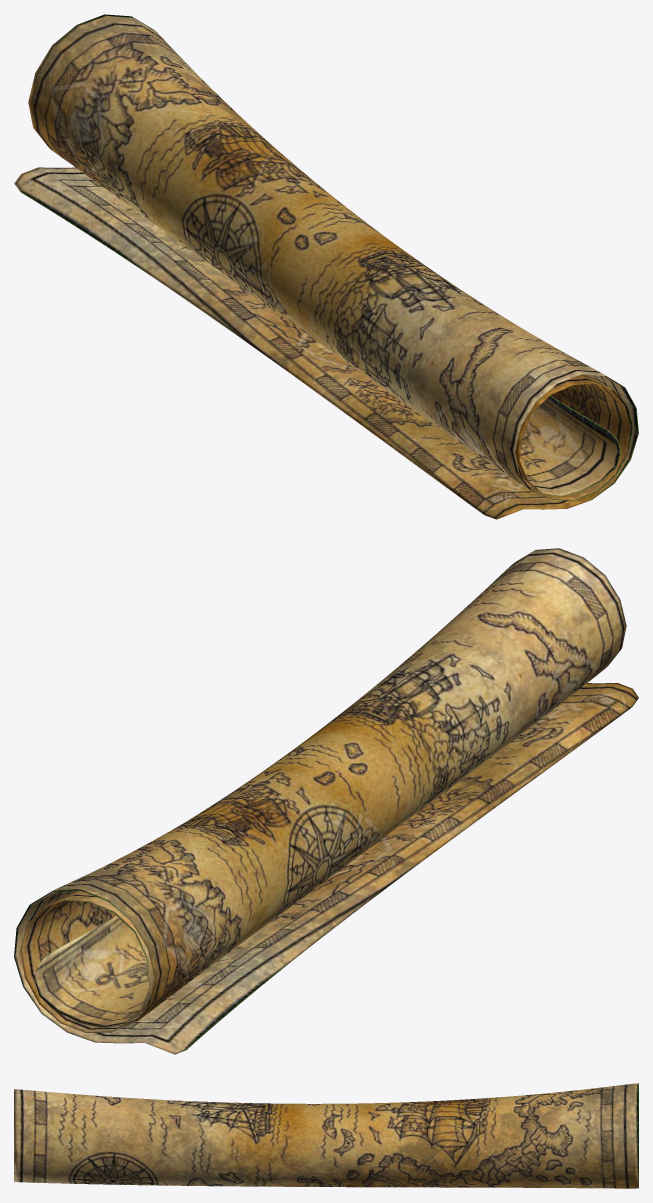
File: pirates_map.glb
3 views of the same model, one above another, from view 1: azimuth 30°, elevation 25°; view 2: azimuth 150°, elevation 25°; view 3: azimuth 270°, elevation 25° (orthographic). The views are drawn at different scales.
Visible parts, largest first — view 1: Plane002; view 2: Plane002; view 3: Plane002.
Part boxes in pixels (bbox=[...]): Plane002: bbox=[14, 14, 638, 519]; Plane002: bbox=[14, 548, 638, 1054]; Plane002: bbox=[14, 1083, 638, 1188].
Size of the model in its own units: 0.1651 by 0.1469 by 0.8551.
Materials: 1 (1 with a texture image).
